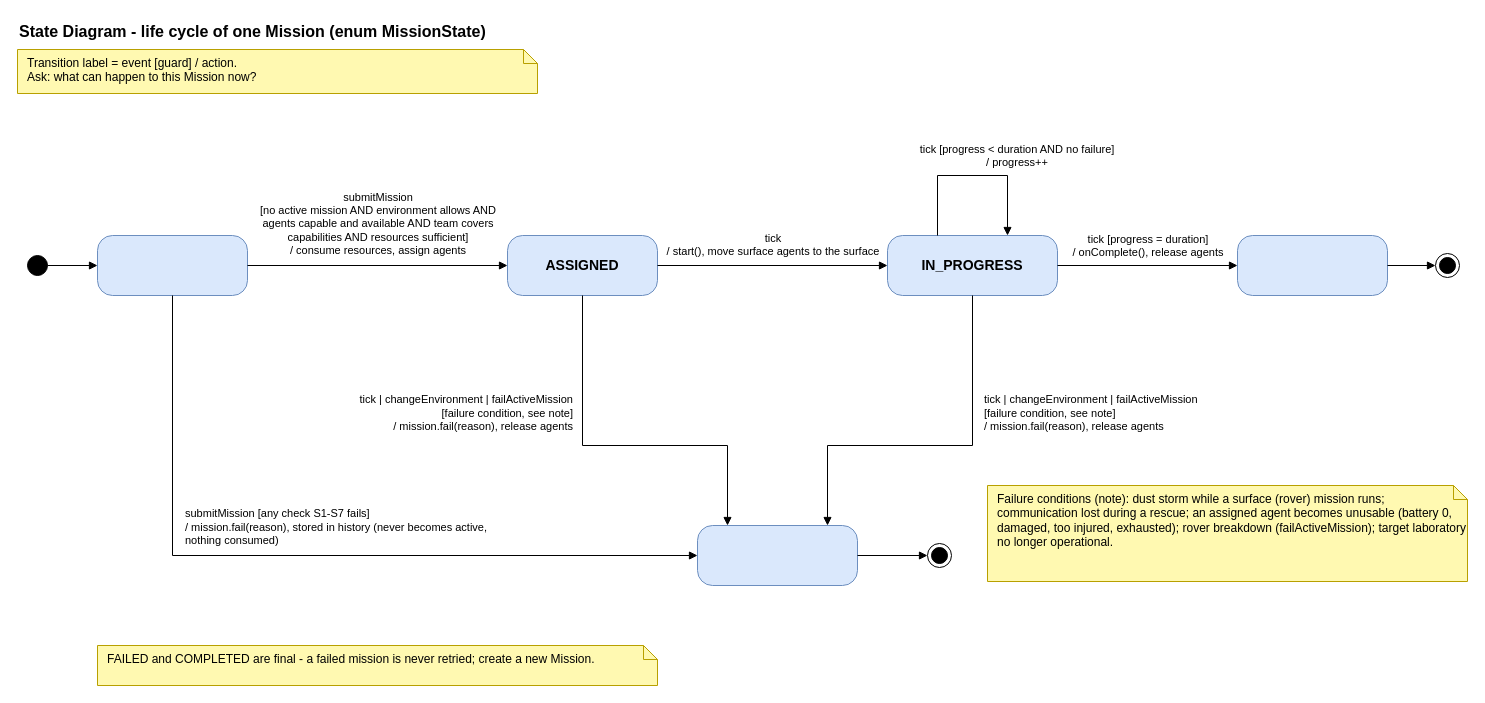
Image size: 1485x703. Some labels were removed from this diagram. The centre of each missing label's shape, as x and y in pixels:
"COMPLETED" goes at (x=1312, y=265).
"CREATED" goes at (x=172, y=265).
"FAILED" goes at (x=777, y=555).
